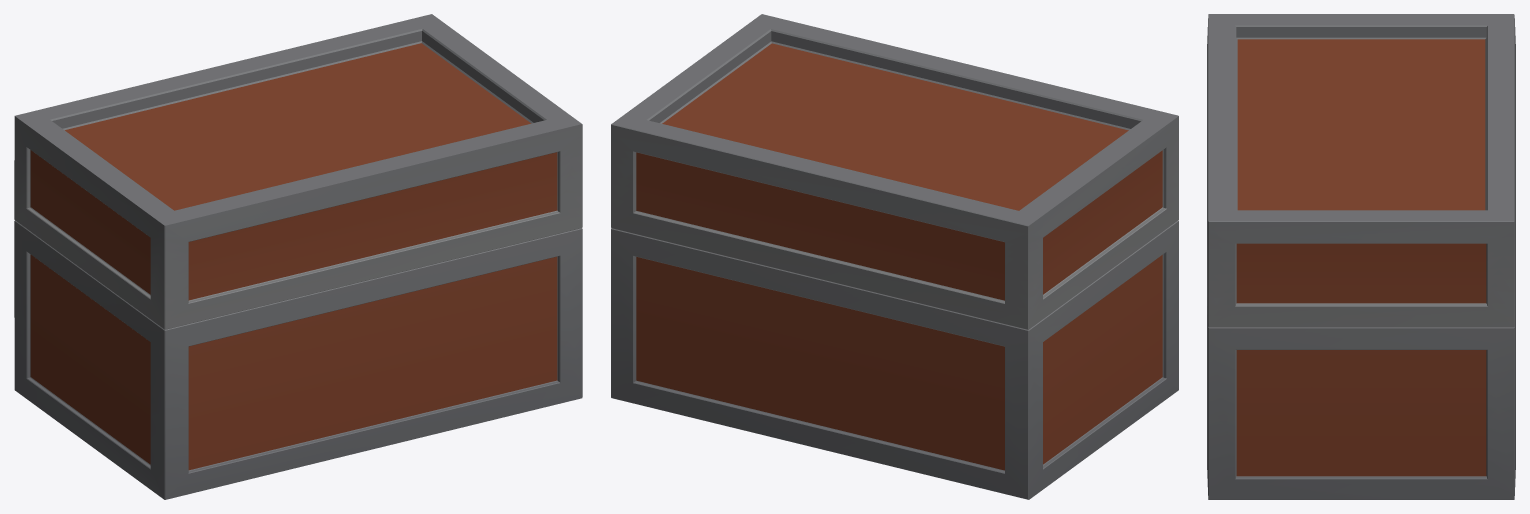
Rendered from ChestSquareIron.glb.
The picture shows the model from 3 angles, left to right: view 1: azimuth 30°, elevation 25°; view 2: azimuth 150°, elevation 25°; view 3: azimuth 270°, elevation 25°; orthographic projection.
Parts seen in each view (by area): view 1: ChestSquareTop, ChestSquareIron; view 2: ChestSquareTop, ChestSquareIron; view 3: ChestSquareTop, ChestSquareIron.
Boxes of the visible parts, x1,y1,x2,y2 form: ChestSquareTop: (14, 14, 582, 329); ChestSquareIron: (14, 220, 582, 499); ChestSquareTop: (611, 14, 1178, 329); ChestSquareIron: (611, 220, 1178, 499); ChestSquareTop: (1207, 14, 1515, 327); ChestSquareIron: (1207, 297, 1515, 499).
Size of the model in its own units: 0.698 by 0.4353 by 0.437.
Materials: 1 (1 with a texture image).
